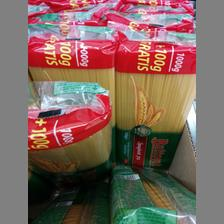Nudeln: (114, 33, 194, 169), (28, 78, 112, 184), (108, 163, 196, 223)
